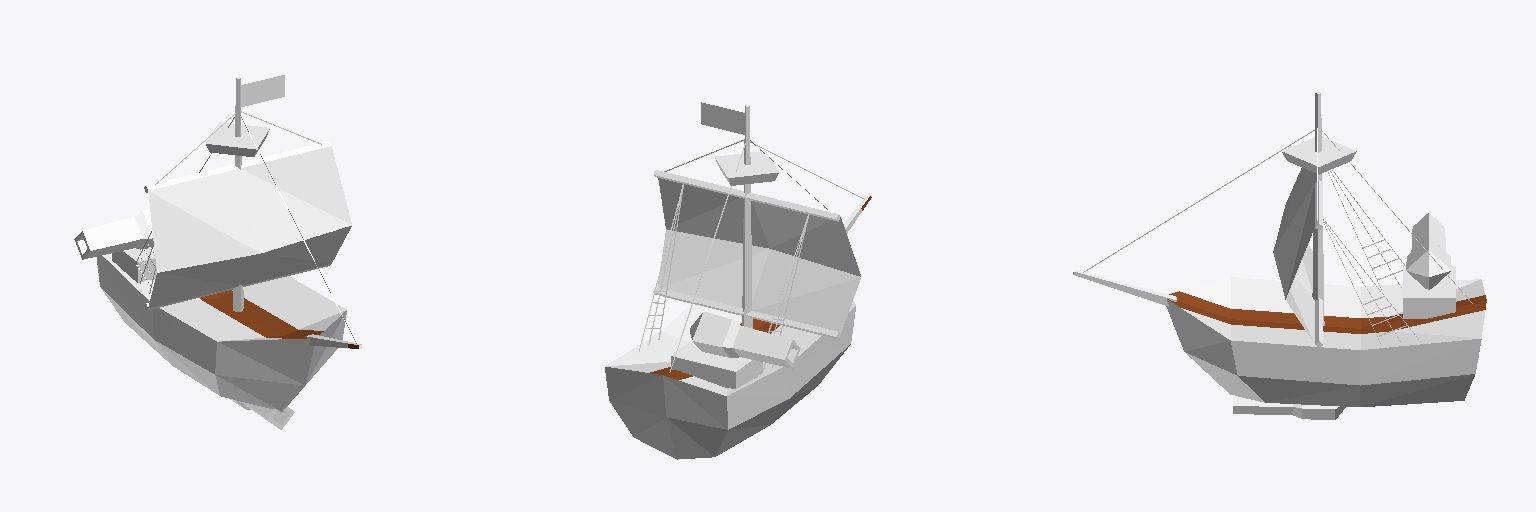
3 renders of one model, left to right at view 1: azimuth 30°, elevation 25°; view 2: azimuth 150°, elevation 25°; view 3: azimuth 270°, elevation 25°, orthographic.
Visible parts, largest first — view 1: boat_Cube, cloth_Cube.008, cannon.001_Cube.015, ropes_Cube.010, cannon_Cube.005; view 2: boat_Cube, cloth_Cube.008, cannon.001_Cube.015, ropes_Cube.010; view 3: boat_Cube, cloth_Cube.008, cannon.001_Cube.015, cannon_Cube.005, ropes_Cube.010.
Part boxes in pixels (left/top/right/bottom): boat_Cube: left=97, top=77, right=362, bottom=411; cloth_Cube.008: left=148, top=75, right=351, bottom=307; cannon.001_Cube.015: left=74, top=209, right=153, bottom=259; ropes_Cube.010: left=136, top=111, right=356, bottom=343; cannon_Cube.005: left=230, top=399, right=294, bottom=429; boat_Cube: left=605, top=105, right=871, bottom=459; cloth_Cube.008: left=658, top=102, right=860, bottom=333; cannon.001_Cube.015: left=690, top=312, right=800, bottom=368; ropes_Cube.010: left=639, top=139, right=864, bottom=373; boat_Cube: left=1073, top=92, right=1486, bottom=406; cloth_Cube.008: left=1273, top=168, right=1314, bottom=343; cannon.001_Cube.015: left=1406, top=213, right=1451, bottom=289; cannon_Cube.005: left=1233, top=395, right=1345, bottom=419; ropes_Cube.010: left=1083, top=128, right=1472, bottom=345.
Bounding box in the file's own units: 2.18 × 3.44 × 3.94.
Materials: 1 (1 with a texture image).